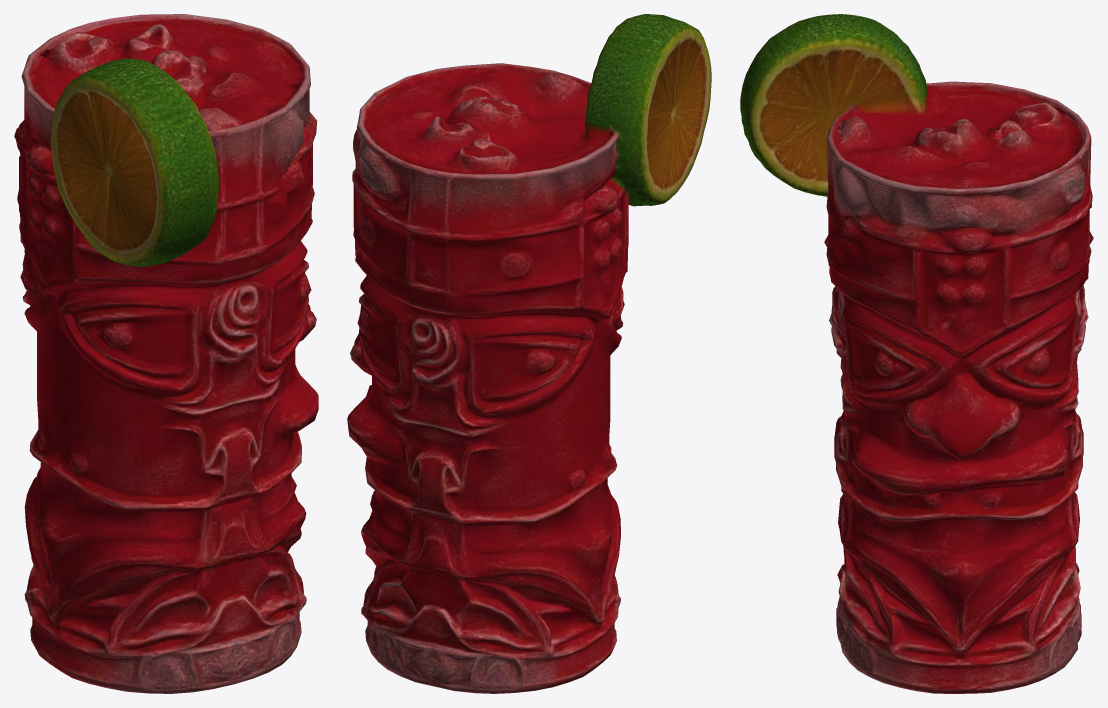
Rendered from modelo-03.glb.
3 renders of one model, left to right at view 1: azimuth 30°, elevation 25°; view 2: azimuth 150°, elevation 25°; view 3: azimuth 270°, elevation 25°, orthographic. The views are drawn at different scales.
Parts seen in each view (by area): view 1: tripo_node_4d90acda-4c21-4c86-b3fa-0f5250360e1e; view 2: tripo_node_4d90acda-4c21-4c86-b3fa-0f5250360e1e; view 3: tripo_node_4d90acda-4c21-4c86-b3fa-0f5250360e1e.
Boxes of the visible parts, x1,y1,x2,y2 form: tripo_node_4d90acda-4c21-4c86-b3fa-0f5250360e1e: (14,14,318,693); tripo_node_4d90acda-4c21-4c86-b3fa-0f5250360e1e: (347,14,711,693); tripo_node_4d90acda-4c21-4c86-b3fa-0f5250360e1e: (740,14,1093,693).
Size of the model in its own units: 0.4537 by 1 by 0.5515.
1 material, 1 textured.
